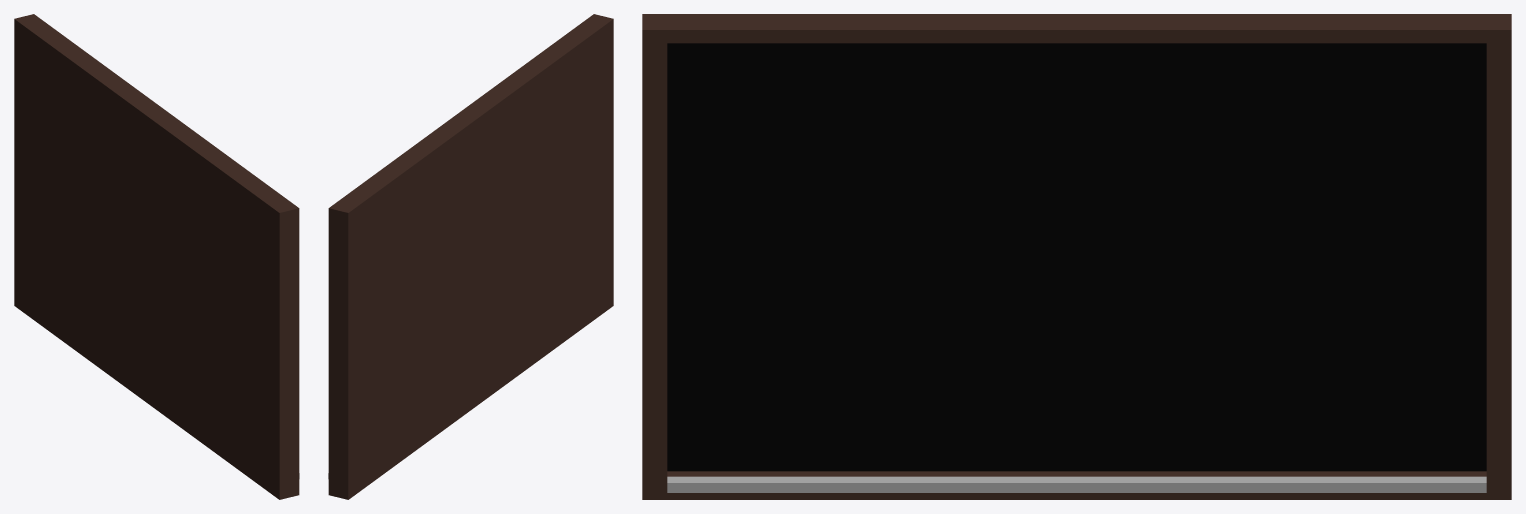
File: Blackboard.fbx
3 views of the same model, side by side, from view 1: azimuth 30°, elevation 25°; view 2: azimuth 150°, elevation 25°; view 3: azimuth 270°, elevation 25° (orthographic). The views are drawn at different scales.
Visible parts, largest first — view 1: Cube; view 2: Cube; view 3: Cube.
Part boxes in pixels (<box>): Cube: <box>14,14,299,499</box>; Cube: <box>328,14,613,499</box>; Cube: <box>642,14,1511,499</box>.
Bounding box in the file's own units: 64.97 × 639 × 1071.
